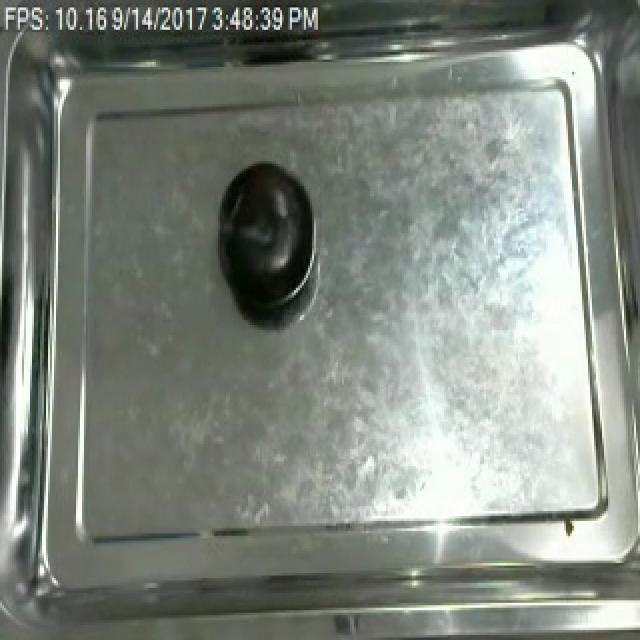Fruit: (214, 156, 318, 315)
